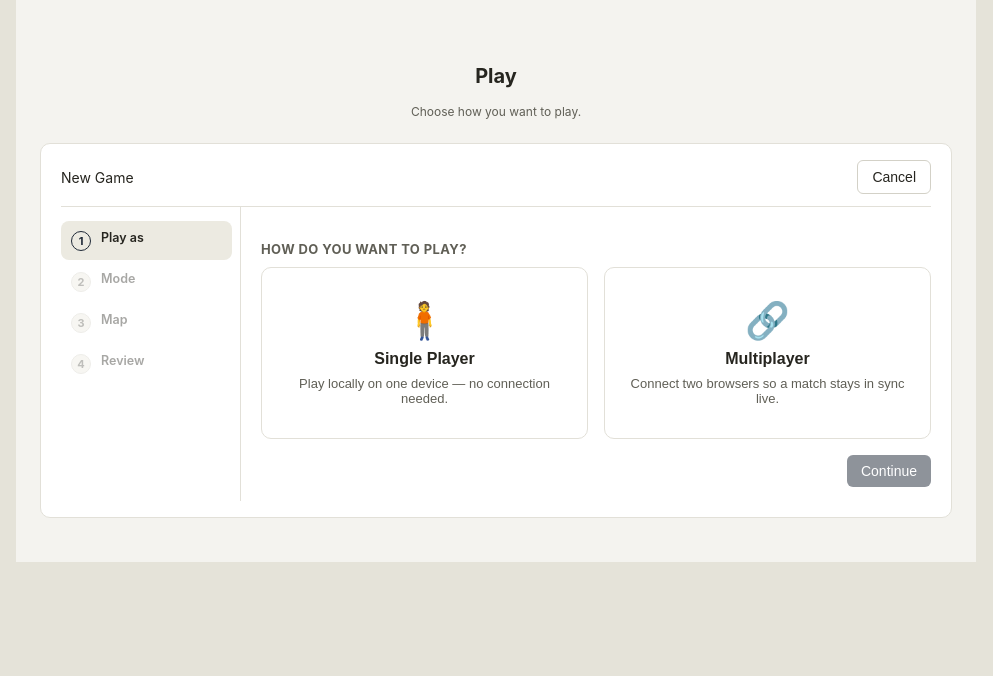
Test: PlayPage › who plays first (#239) › does not gate reaching Start Game on a first-player pick in Sandbox mode
Click the button "Single Player" at (424, 353), box top-left (261, 267), bottom-right (588, 439)
Wait 250 ms
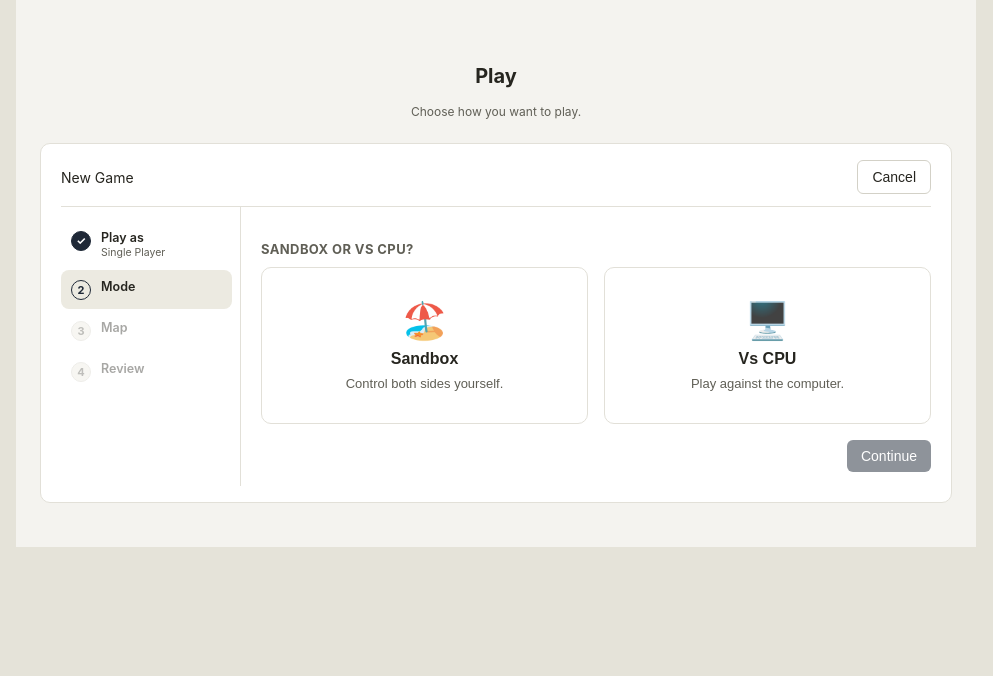
Click the button "🏖️ Sandbox Control both sides yourself." at (424, 320), box top-left (261, 267), bottom-right (588, 424)
Wait 250 ms
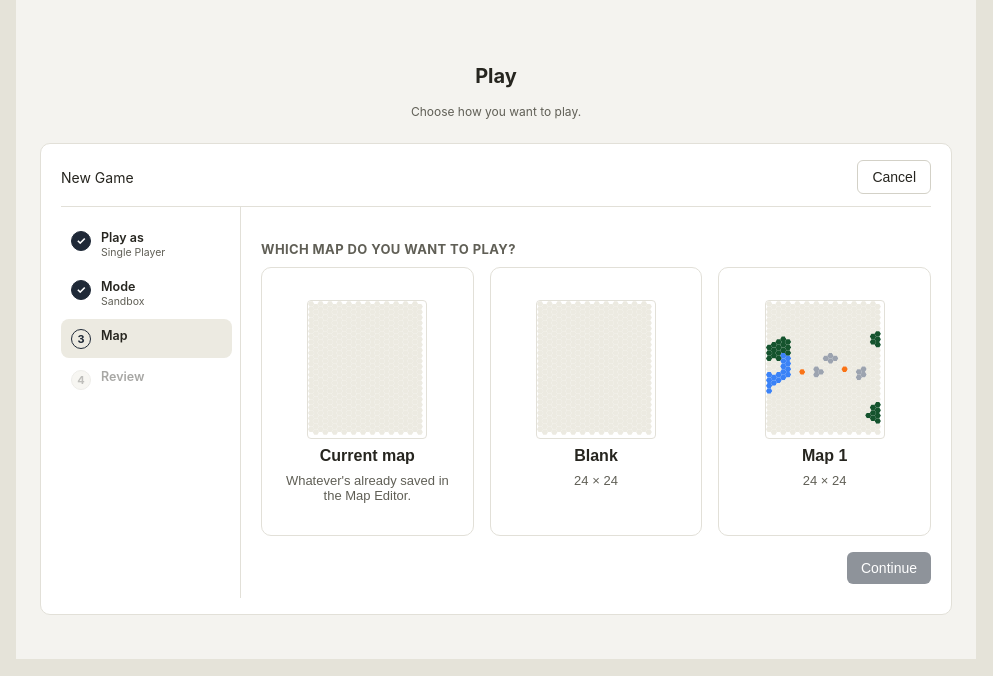
Click the button "Current map Whatever's already saved in the Map Editor." at (367, 401), box top-left (261, 267), bottom-right (474, 536)
Wait 250 ms
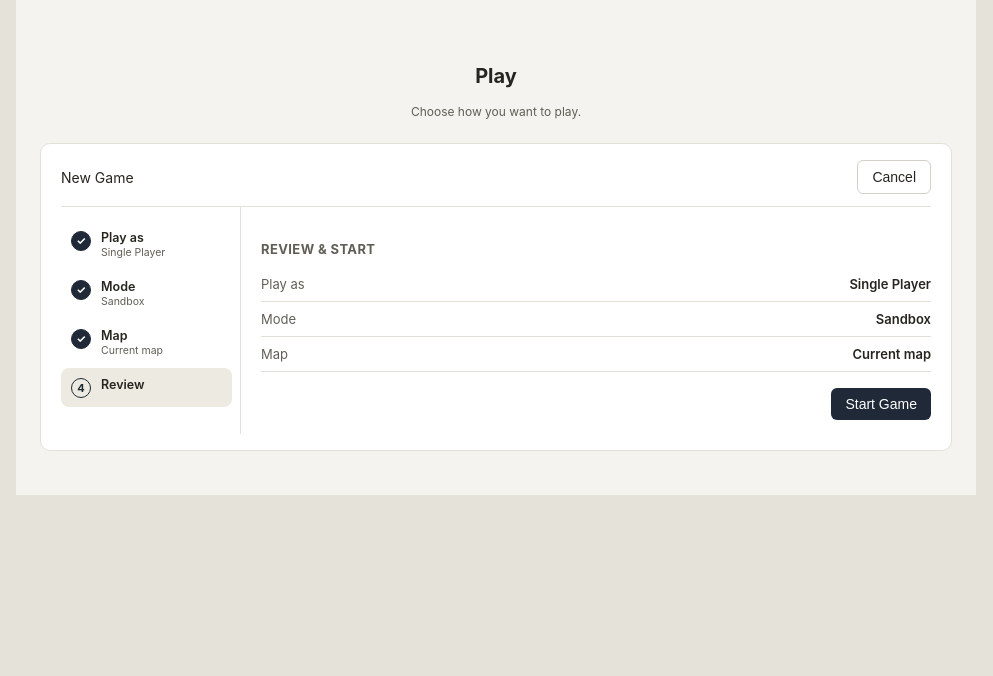
Now the button "Start Game" is enabled, box top-left (831, 388), bottom-right (931, 420)
